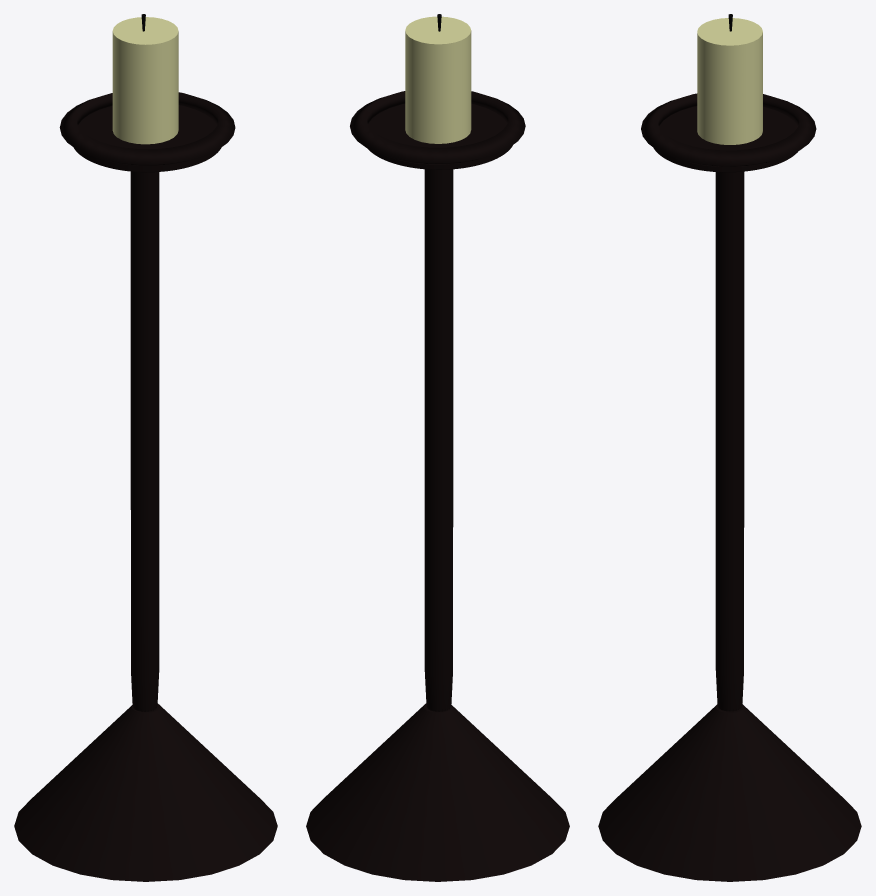
Rendered from candle.FBX.
3 views of the same model, side by side, from view 1: azimuth 30°, elevation 25°; view 2: azimuth 150°, elevation 25°; view 3: azimuth 270°, elevation 25° (orthographic).
Visible parts, largest first — view 1: Cone001, Cone002, Cone004, Torus001, Cone003; view 2: Cone001, Cone002, Cone004, Torus001, Cone003; view 3: Cone001, Cone002, Cone004, Torus001, Cone003.
Part boxes in pixels (<box>): Cone001: <box>14,703,277,881</box>; Cone002: <box>130,171,159,711</box>; Cone004: <box>112,17,178,144</box>; Torus001: <box>59,92,235,165</box>; Cone003: <box>74,105,221,172</box>; Cone001: <box>306,703,569,881</box>; Cone002: <box>424,169,453,711</box>; Cone004: <box>405,16,471,143</box>; Torus001: <box>350,91,525,164</box>; Cone003: <box>367,103,512,169</box>; Cone001: <box>598,704,861,881</box>; Cone002: <box>715,171,744,711</box>; Cone004: <box>697,18,762,144</box>; Torus001: <box>641,93,816,166</box>; Cone003: <box>653,106,798,172</box>.
Size of the model in its own units: 24 by 81.49 by 24.
